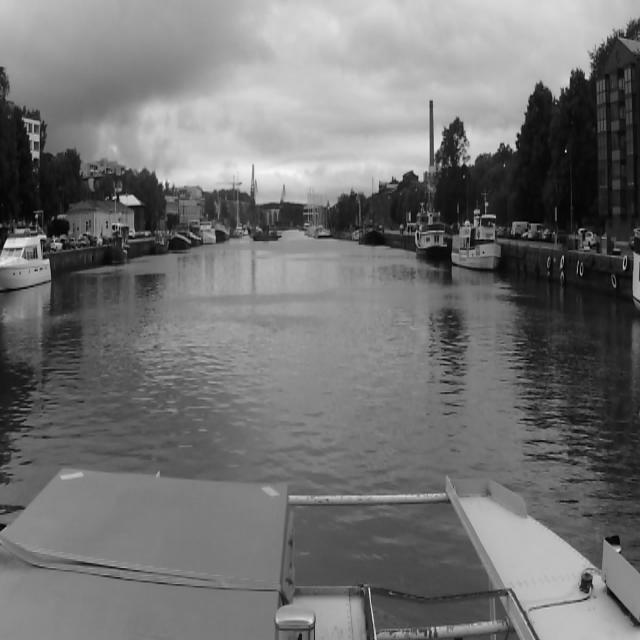ship: (451, 191, 501, 273), (0, 215, 52, 291), (415, 202, 447, 261), (170, 218, 192, 250), (216, 194, 230, 242), (110, 228, 128, 264), (248, 225, 282, 241), (201, 217, 216, 244), (190, 219, 202, 248), (154, 234, 168, 253)
